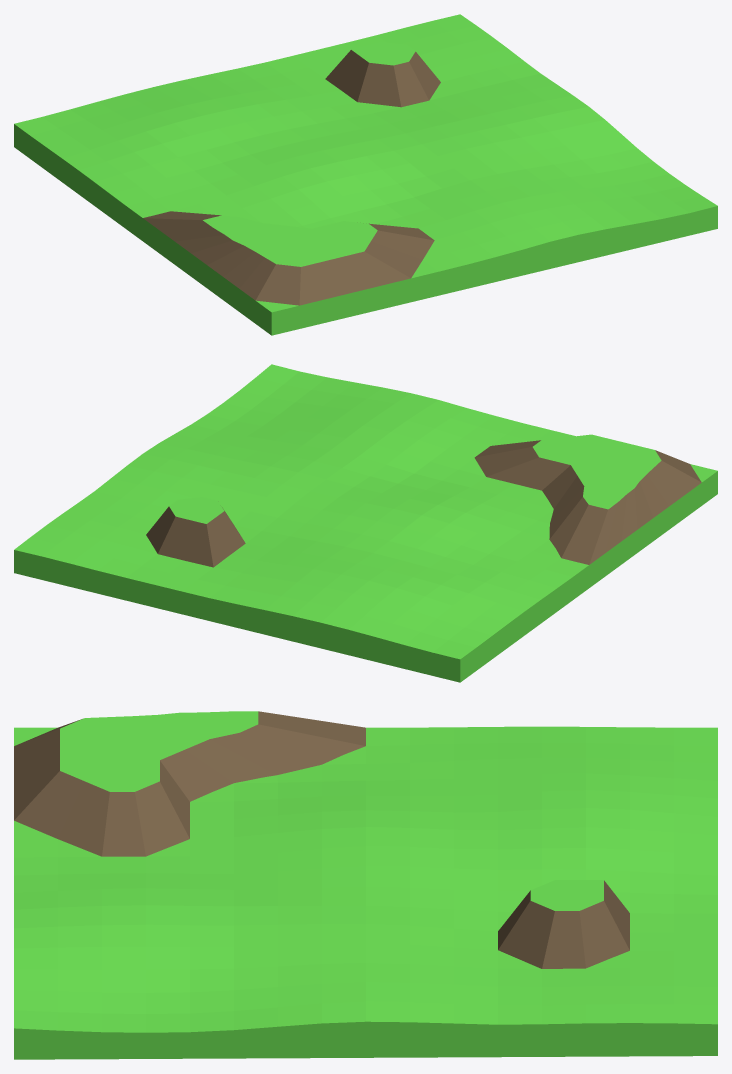
Rendered from RTS_tile_2.glb.
3 views of the same model, one above another, from view 1: azimuth 30°, elevation 25°; view 2: azimuth 150°, elevation 25°; view 3: azimuth 270°, elevation 25° (orthographic). The views are drawn at different scales.
Visible parts, largest first — view 1: Cube.001; view 2: Cube.001; view 3: Cube.001.
Boxes of the visible parts, x1,y1,x2,y2 form: Cube.001: (14,14,717,335); Cube.001: (14,364,717,682); Cube.001: (14,711,717,1059).
Size of the model in its own units: 0.9991 by 0.1239 by 0.9991.
